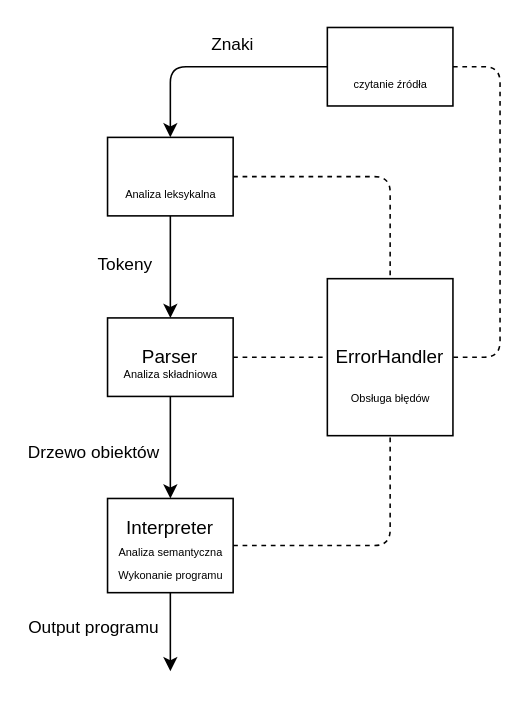
Image size: 529x711. Some labels were removed from this diagram. Each missing label, with the box of its shape:
Lekser: (106, 136, 233, 216)
Reader: (326, 26, 453, 106)
